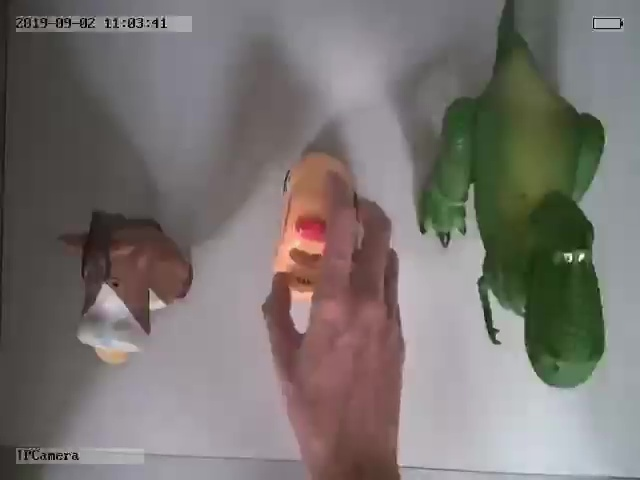horse: (59, 210, 194, 365)
rex: (418, 3, 607, 390)
